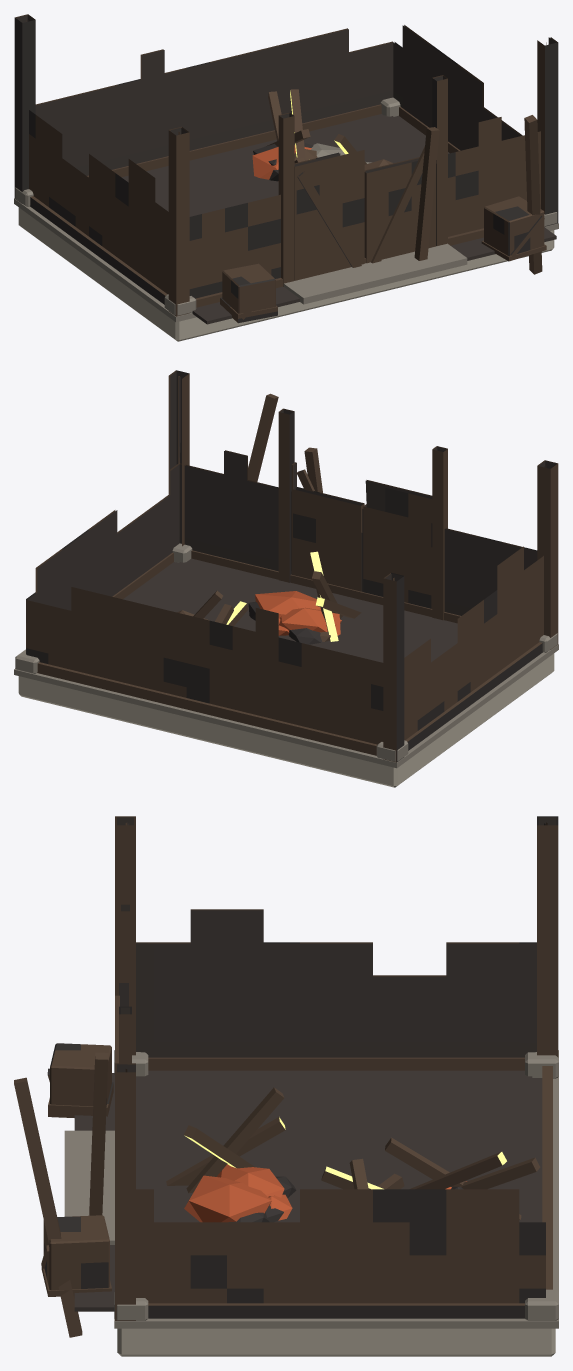
Rendered from Lagerhaus_Ruine.fbx.
The picture shows the model from 3 angles, top to bottom: view 1: azimuth 30°, elevation 25°; view 2: azimuth 150°, elevation 25°; view 3: azimuth 270°, elevation 25°; orthographic projection. The views are drawn at different scales.
Visible parts, largest first — view 1: Lagerhaus_Ruine; view 2: Lagerhaus_Ruine; view 3: Lagerhaus_Ruine.
Part boxes in pixels (x1=…): Lagerhaus_Ruine: x1=14, y1=14, x2=558, y2=341; Lagerhaus_Ruine: x1=14, y1=370, x2=558, y2=787; Lagerhaus_Ruine: x1=14, y1=816, x2=558, y2=1356.
Size of the model in its own units: 7.48 by 3.93 by 6.71.
